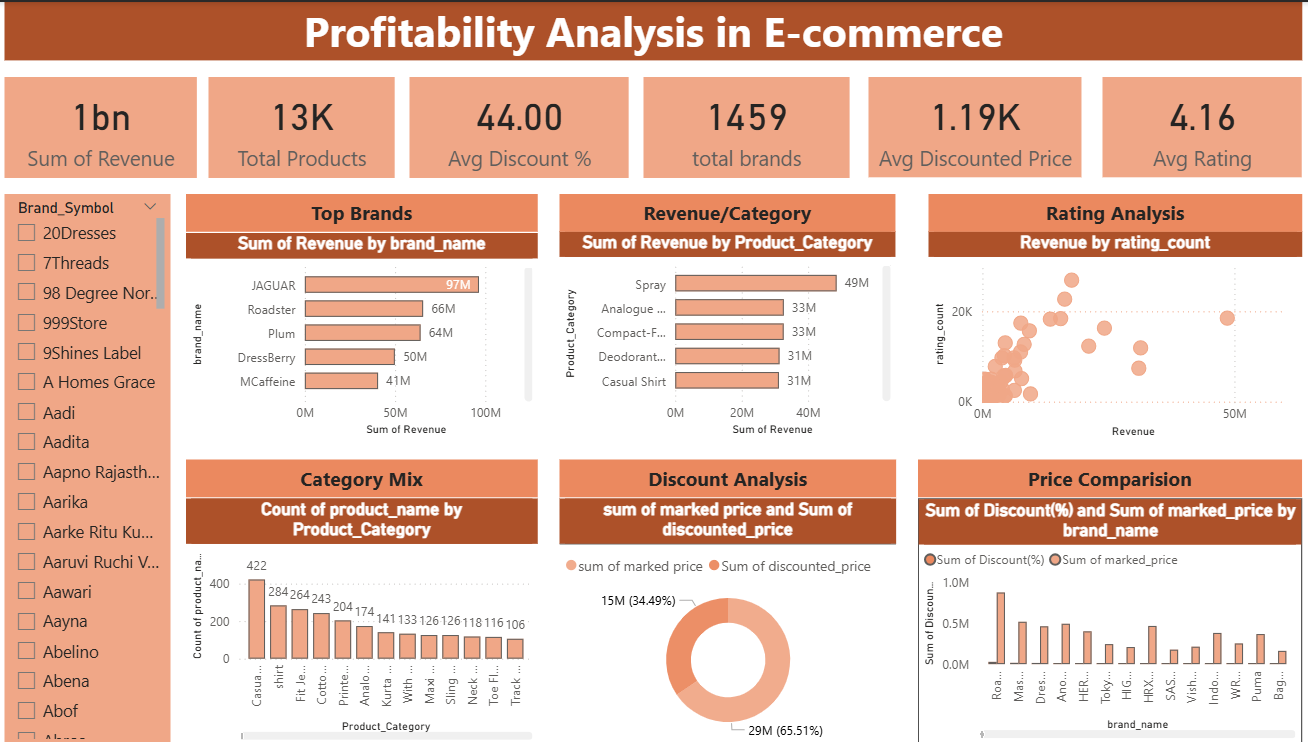

Layout of this report page (visuals, bound fields, positions):
{"tool":"powerbi","page":{"name":"Page 1","canvas":[1280,720],"ordinal":0},"visuals":[{"type":"card","fields":{"Values":["Sum(Sheet1.Revenue)"]},"box":[10.2,72.9,186.6,97.7],"z":0},{"type":"card","fields":{"Values":["Sheet1.Measure 2"]},"box":[403.8,72.9,212.8,97.7],"z":1000},{"type":"card","fields":{"Values":["Sheet1.Avg Discounted Price"]},"box":[848.6,72.8,206.7,97.5],"z":2000},{"type":"card","fields":{"Values":["Sheet1.Measure"]},"box":[1075.7,72.8,193.6,97.5],"z":3000},{"type":"card","fields":{"Values":["Sheet1.Total Products"]},"box":[208.5,72.9,180.8,97.7],"z":4000},{"type":"card","fields":{"Values":["Sheet1.total brands"]},"box":[629.8,72.9,199.7,97.7],"z":5000},{"type":"barChart","fields":{"Category":["Sheet1.brand_name"],"Y":["Sum(Sheet1.Revenue)"]},"box":[186.6,224.5,341.1,201.2],"z":6000},{"type":"barChart","fields":{"Category":["Sheet1.Product_Description "],"Y":["Sum(Sheet1.Revenue)"]},"box":[548.7,222.7,326,202.3],"z":7000},{"type":"clusteredColumnChart","fields":{"Category":["Sheet1.Product_Category "],"Y":["CountNonNull(Sheet1.product_name)"]},"box":[186.6,481.1,341.1,239.1],"z":8000},{"type":"scatterChart","title":"Revenue by rating_count","fields":{"X":["Sheet1.Revenue"],"Y":["Sheet1.rating_count"]},"box":[906.8,222.7,362.4,203.8],"z":9000},{"type":"slicer","fields":{"Values":["Sheet1.Brand_Symbol"]},"box":[10.2,186.6,160.4,533.6],"z":10000},{"type":"donutChart","fields":{"Y":["Sheet1.sum of marked price","Sum(Sheet1.discounted_price)"]},"box":[548.2,481.1,326.6,239.1],"z":11000},{"type":"lineClusteredColumnComboChart","fields":{"Category":["Sheet1.brand_name"],"Y":["Sum(Sheet1.Discount(%))","Sum(Sheet1.marked_price)"]},"box":[896.6,481.8,372.6,238.7],"z":12000},{"type":"textbox","box":[186.6,186.6,341.1,36.4],"z":13000},{"type":"textbox","box":[548.7,186.3,326,36.4],"z":14000},{"type":"textbox","box":[906.8,186.3,362.4,36.4],"z":15000},{"type":"textbox","box":[896.6,443.9,372.6,36.4],"z":16000},{"type":"textbox","box":[186.6,444.6,341.1,36.4],"z":17000},{"type":"textbox","box":[548.2,444.6,326.6,36.4],"z":18000},{"type":"textbox","title":"Profitability Analysis in E-commerce","box":[10.2,0,1259.6,56.9],"z":19000}]}

Visuals, with their boxes in screenshot pixels (x1, y1, x2, y2), scaled from the page's 1280x720 canvas onto the 1308x742 screenshot:
card - Sum(Sheet1.Revenue): (x1=10, y1=75, x2=201, y2=176)
card - Sheet1.Measure 2: (x1=413, y1=75, x2=630, y2=176)
card - Sheet1.Avg Discounted Price: (x1=867, y1=75, x2=1078, y2=176)
card - Sheet1.Measure: (x1=1099, y1=75, x2=1297, y2=176)
card - Sheet1.Total Products: (x1=213, y1=75, x2=398, y2=176)
card - Sheet1.total brands: (x1=644, y1=75, x2=848, y2=176)
barChart - Sheet1.brand_name x Sum(Sheet1.Revenue): (x1=191, y1=231, x2=539, y2=439)
barChart - Sheet1.Product_Description  x Sum(Sheet1.Revenue): (x1=561, y1=230, x2=894, y2=438)
clusteredColumnChart - Sheet1.Product_Category  x CountNonNull(Sheet1.product_name): (x1=191, y1=496, x2=539, y2=741)
"Revenue by rating_count" scatterChart: (x1=927, y1=230, x2=1297, y2=440)
slicer - Sheet1.Brand_Symbol: (x1=10, y1=192, x2=174, y2=741)
donutChart - Sheet1.sum of marked price x Sum(Sheet1.discounted_price): (x1=560, y1=496, x2=894, y2=741)
lineClusteredColumnComboChart - Sheet1.brand_name x Sum(Sheet1.Discount(%)): (x1=916, y1=497, x2=1297, y2=741)
textbox: (x1=191, y1=192, x2=539, y2=230)
textbox: (x1=561, y1=192, x2=894, y2=230)
textbox: (x1=927, y1=192, x2=1297, y2=230)
textbox: (x1=916, y1=457, x2=1297, y2=495)
textbox: (x1=191, y1=458, x2=539, y2=496)
textbox: (x1=560, y1=458, x2=894, y2=496)
"Profitability Analysis in E-commerce" textbox: (x1=10, y1=0, x2=1298, y2=59)
